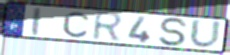4: (127, 15, 153, 45)
C: (62, 11, 90, 39)
I: (31, 6, 42, 37)
R: (91, 10, 126, 44)
S: (158, 16, 190, 48)
U: (188, 18, 223, 50)
